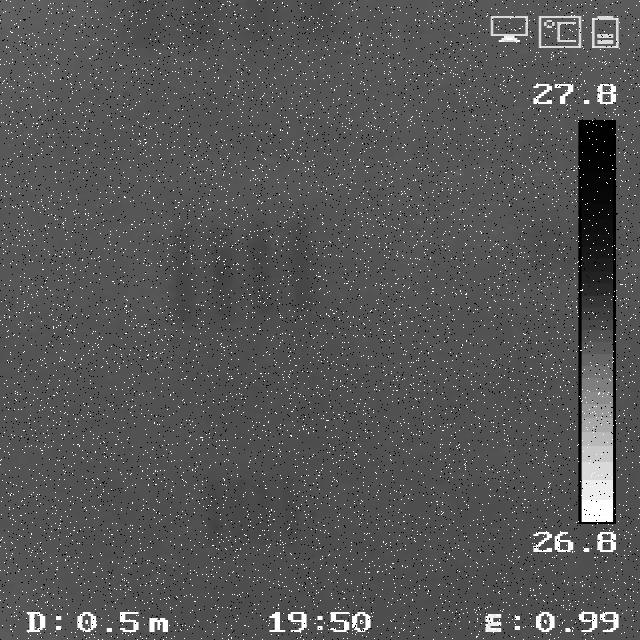threshold 4-bar target: (167, 217, 320, 318), (202, 473, 298, 544)
